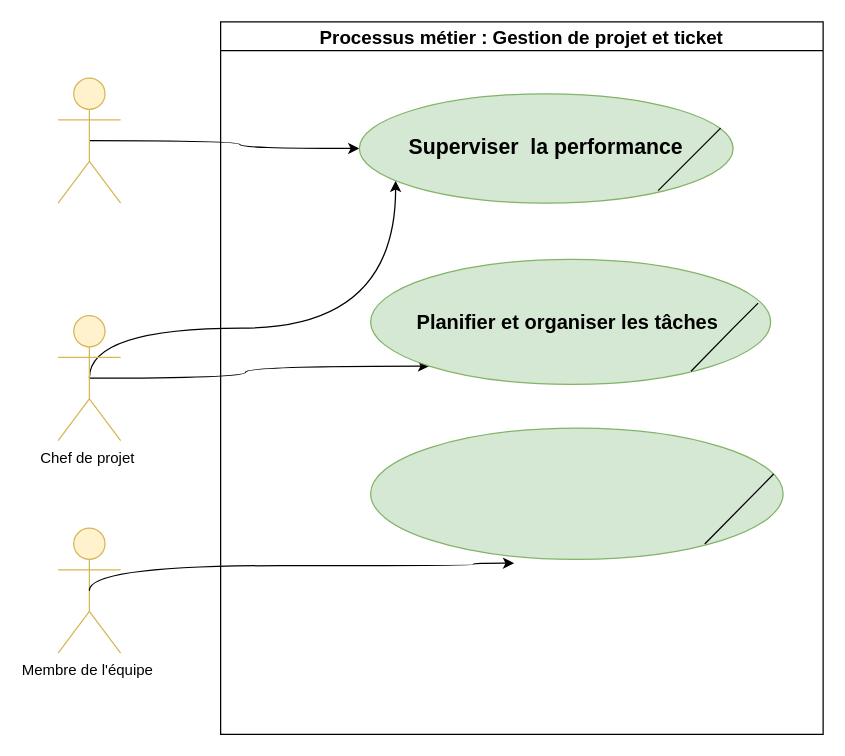
Some shapes in this 845 by 756 pixel diagram are drawn without their labels. Each missing label, with the box of its shape:
Administrateur: (57, 77, 121, 203)
Exécuter et suivre les tâche: (369, 427, 783, 559)
